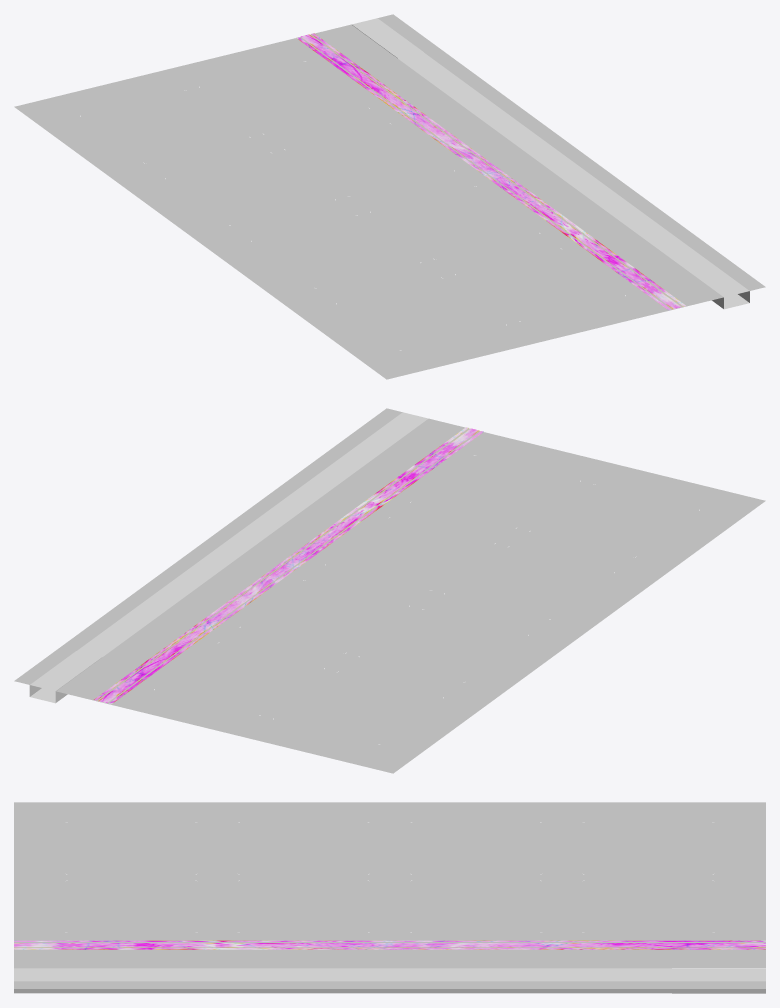
The model's file is floor_05.fbx.
The picture shows the model from 3 angles, top to bottom: view 1: azimuth 30°, elevation 25°; view 2: azimuth 150°, elevation 25°; view 3: azimuth 270°, elevation 25°; orthographic projection.
Visible parts, largest first — view 1: Plane.195, Plane.191, Plane.192, Plane.193; view 2: Plane.195, Plane.191, Plane.192, Plane.193; view 3: Plane.195, Plane.191, Plane.192, Plane.193.
Part boxes in pixels (x1=…): Plane.195: x1=80, y1=59, x2=625, y2=352; Plane.191: x1=14, y1=14, x2=765, y2=379; Plane.192: x1=351, y1=18, x2=749, y2=309; Plane.193: x1=296, y1=33, x2=685, y2=310; Plane.195: x1=154, y1=453, x2=699, y2=746; Plane.191: x1=14, y1=408, x2=765, y2=773; Plane.192: x1=29, y1=412, x2=428, y2=703; Plane.193: x1=94, y1=427, x2=483, y2=704; Plane.195: x1=52, y1=822, x2=727, y2=932; Plane.191: x1=14, y1=802, x2=765, y2=988; Plane.192: x1=14, y1=968, x2=765, y2=993; Plane.193: x1=14, y1=940, x2=765, y2=949.
Size of the model in its own units: 2.35 by 0.0745 by 4.
